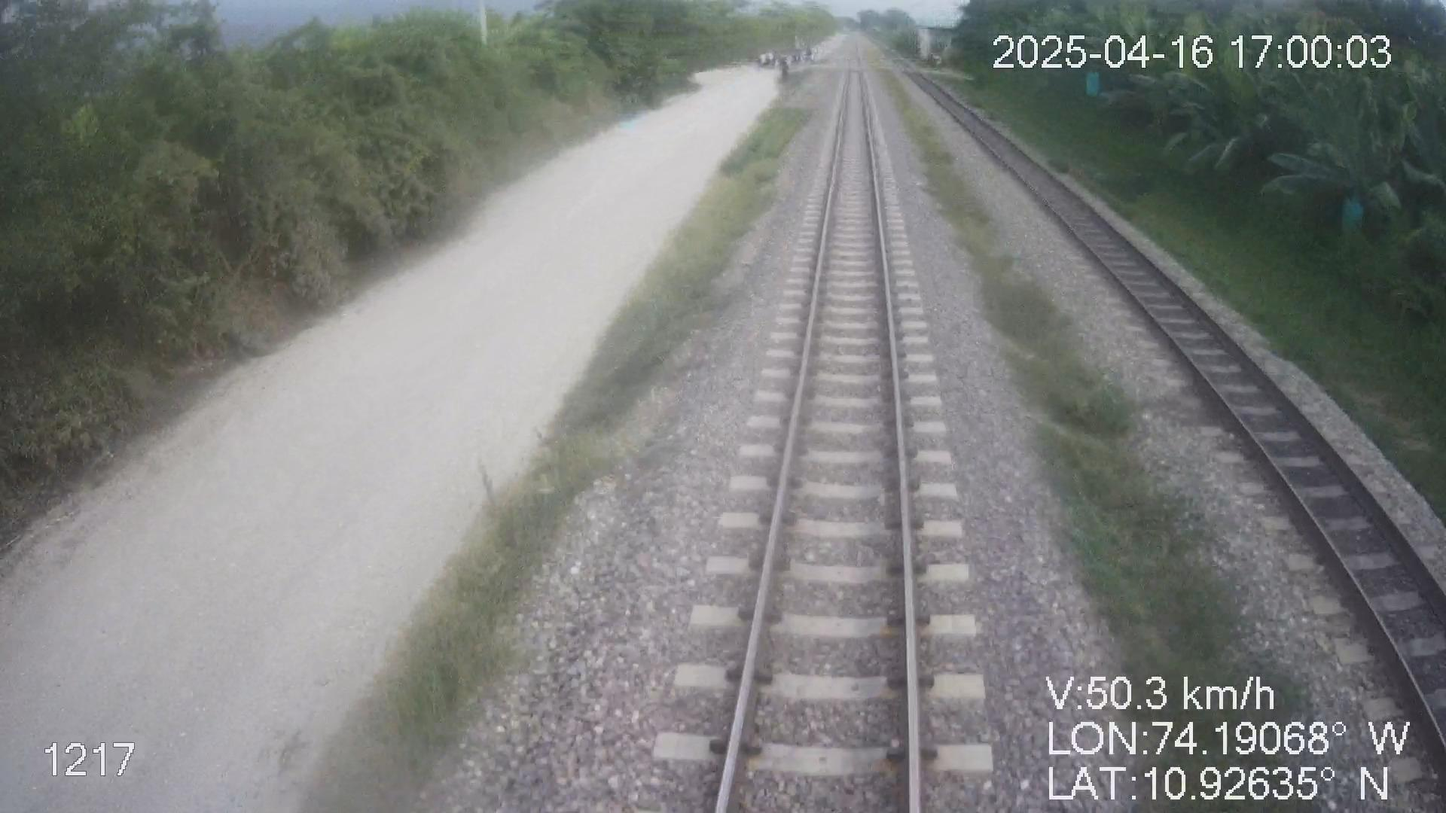Pasto: (0, 0, 844, 552), (859, 0, 1445, 525)
